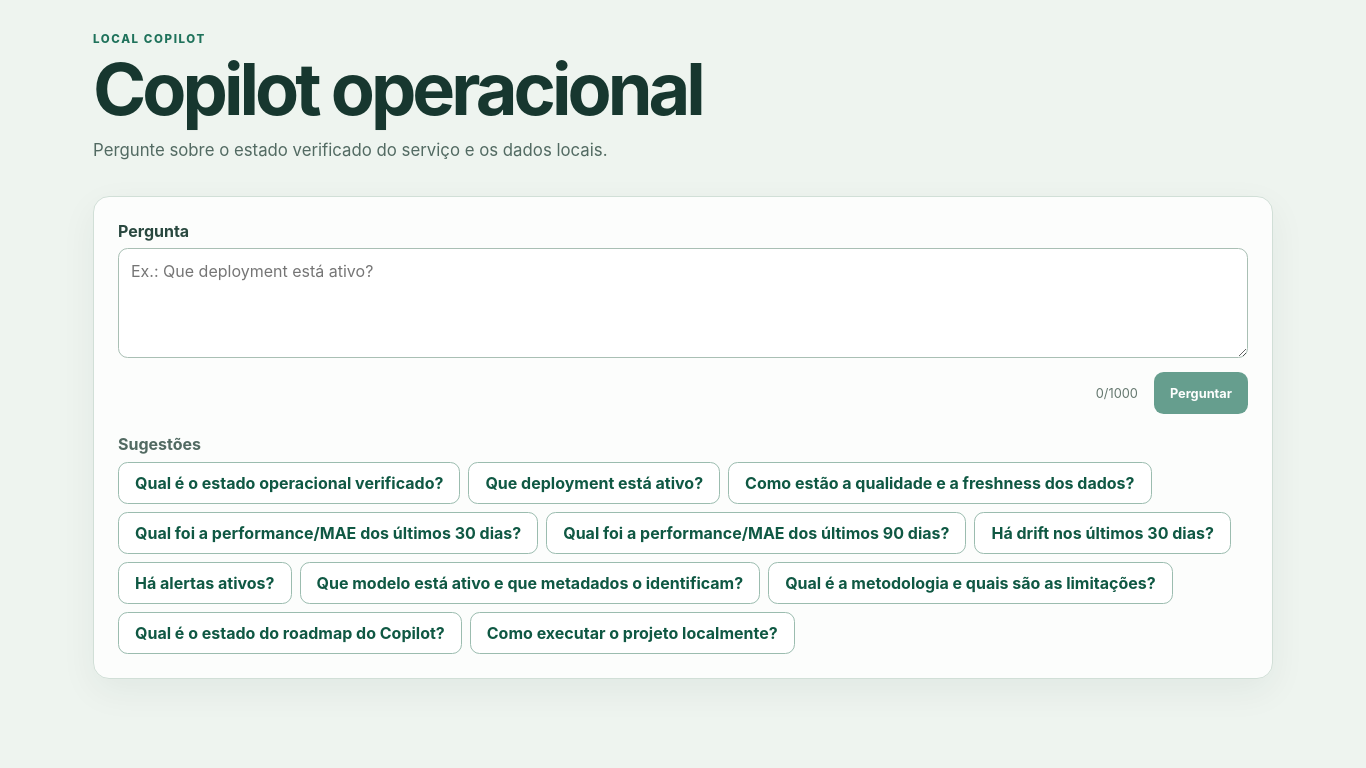
CopilotPage › surfaces a transport error
Click the button "Há alertas ativos?". click: [205, 583]
box: x1=118 y1=562 x2=292 y2=604
(page scrolled)
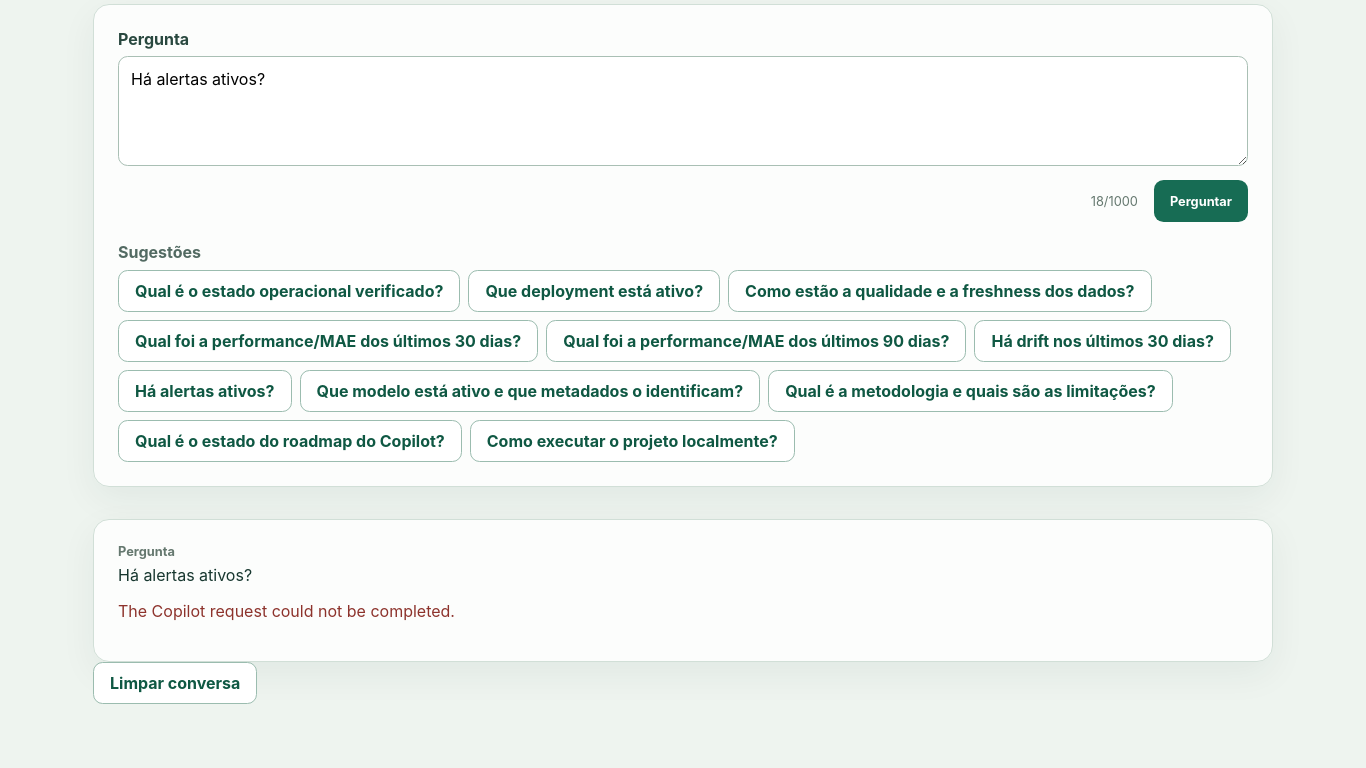
Expected: the text "The Copilot request could not be completed." is shown, x1=118 y1=601 x2=455 y2=621
